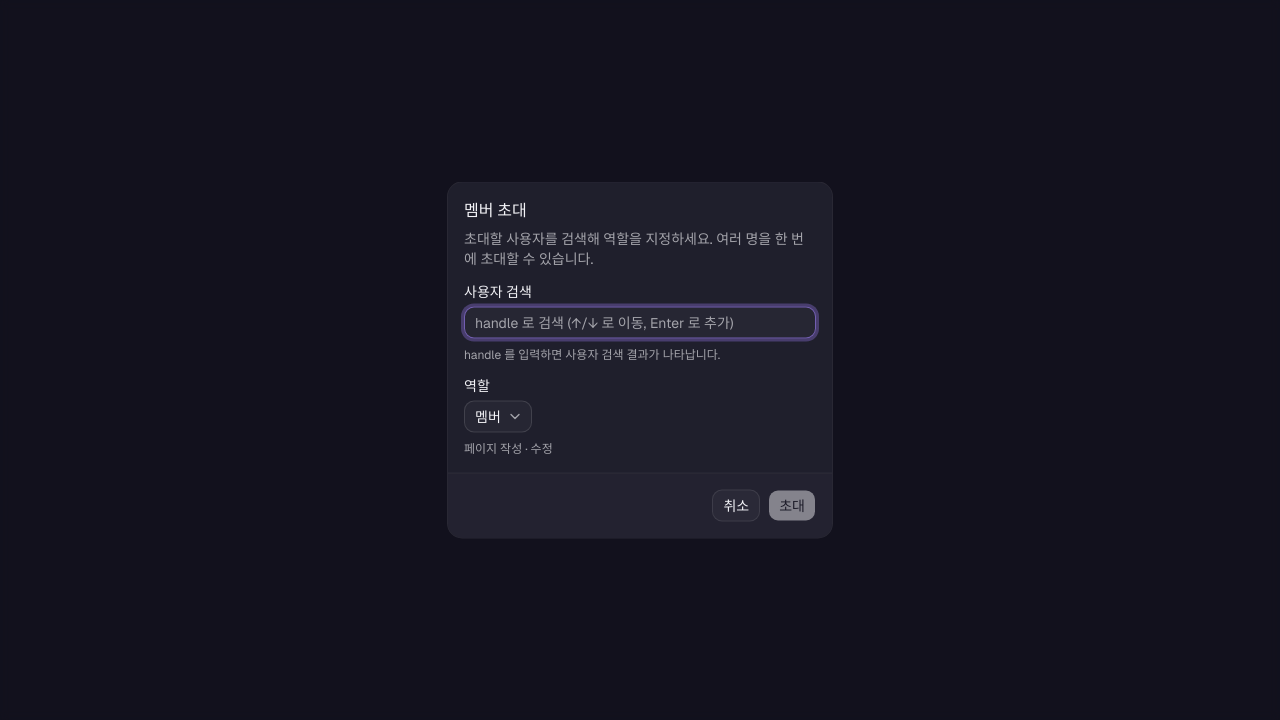
Test: InviteMemberDialog · 사용자 검색 UX › ArrowDown 으로 두 번째 결과를 하이라이트하고 Enter 로 추가한다
Type "a" into the field labelled "사용자 검색" at (640, 322), box [464,306,816,338]
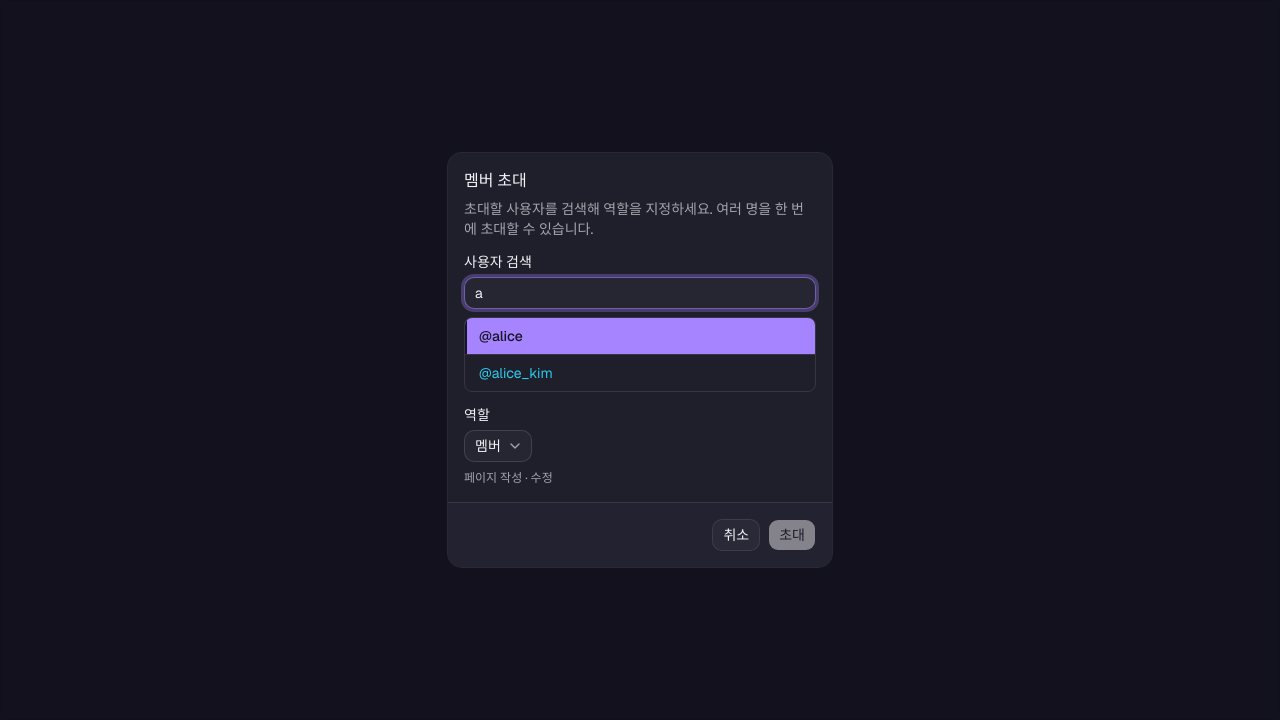
Expected: the option "@alice_kim" is shown, [465,355,815,391]
Note: ArrowDown → 두 번째 항목 하이라이트 → Enter → alice_kim 추가.
Press Arrowdown Enter
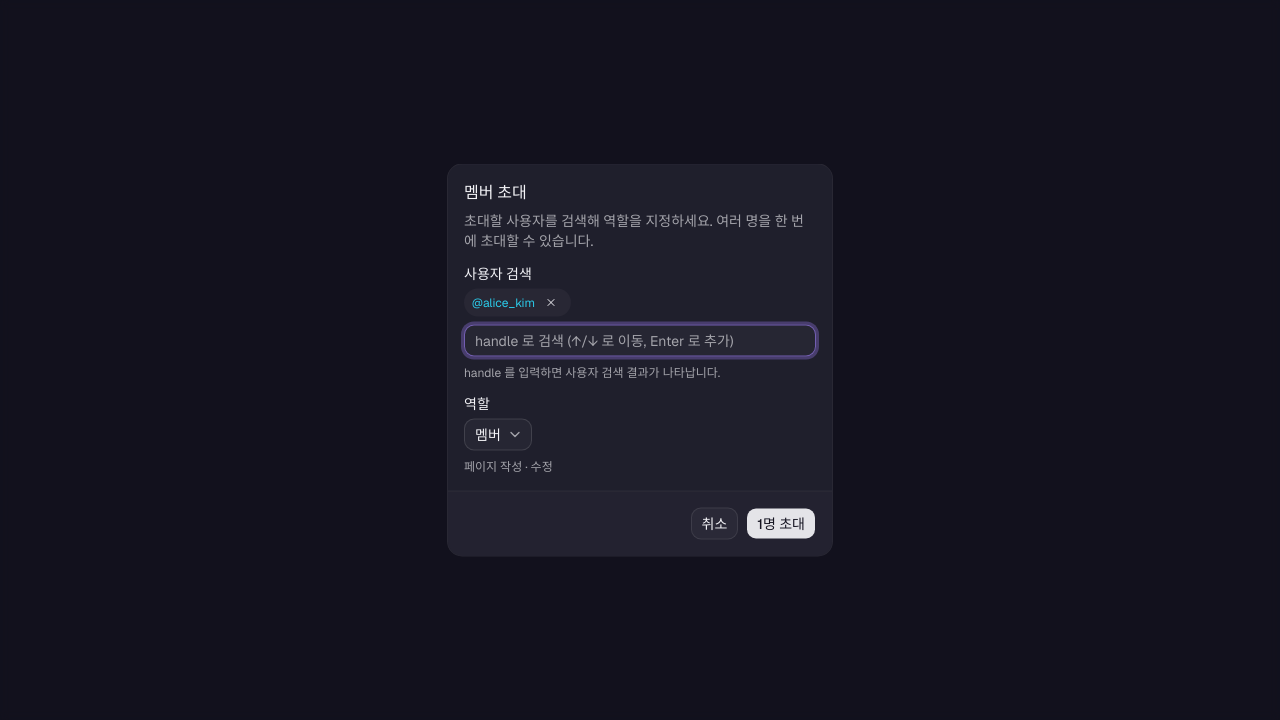
Expected: the button named "@alice_kim 선택 해제" is shown, [539,290,563,314]
